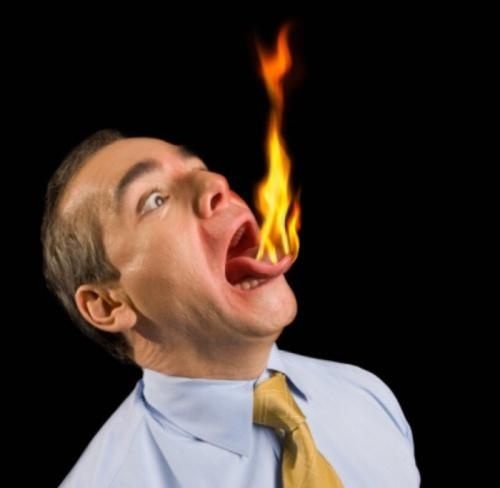fire: (250, 15, 306, 275)
